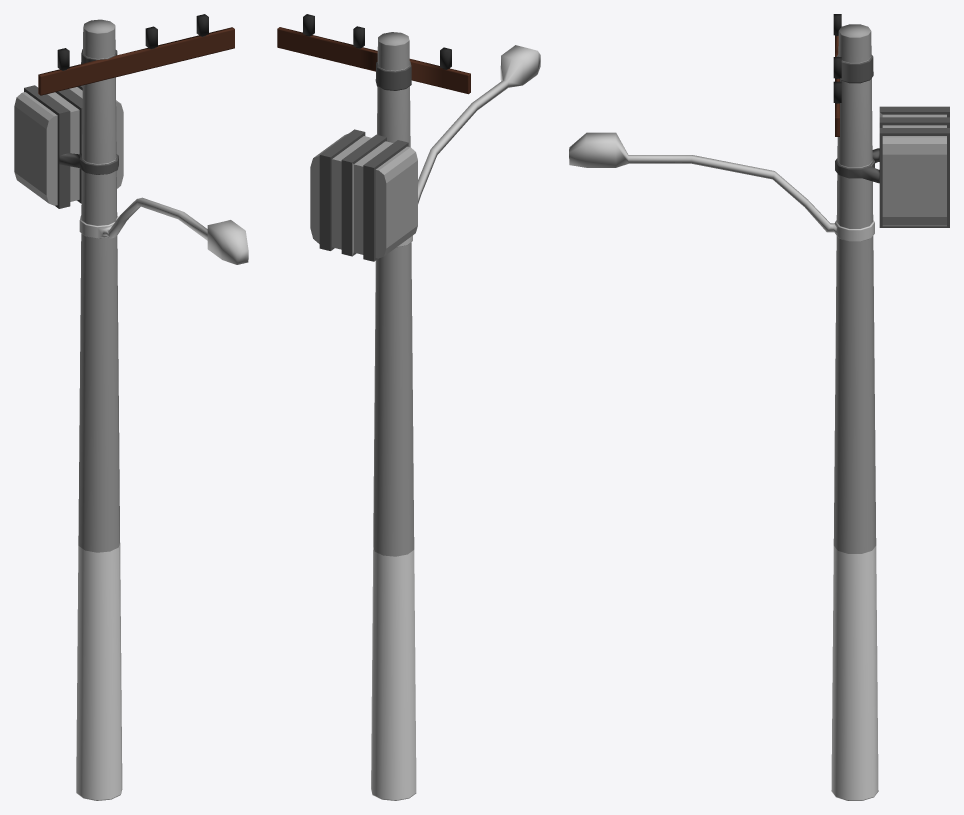
The model's file is MESH_PROP_Poste_Trans_Luz_B.fbx.
3 renders of one model, left to right at view 1: azimuth 30°, elevation 25°; view 2: azimuth 150°, elevation 25°; view 3: azimuth 270°, elevation 25°, orthographic.
Parts seen in each view (by area): view 1: poste_trans_luz_B; view 2: poste_trans_luz_B; view 3: poste_trans_luz_B.
Part boxes in pixels (x1,y1,x2,y2): poste_trans_luz_B: (14,14,248,800); poste_trans_luz_B: (277,14,540,800); poste_trans_luz_B: (569,14,949,800).
Size of the model in its own units: 133 by 500 by 227.
